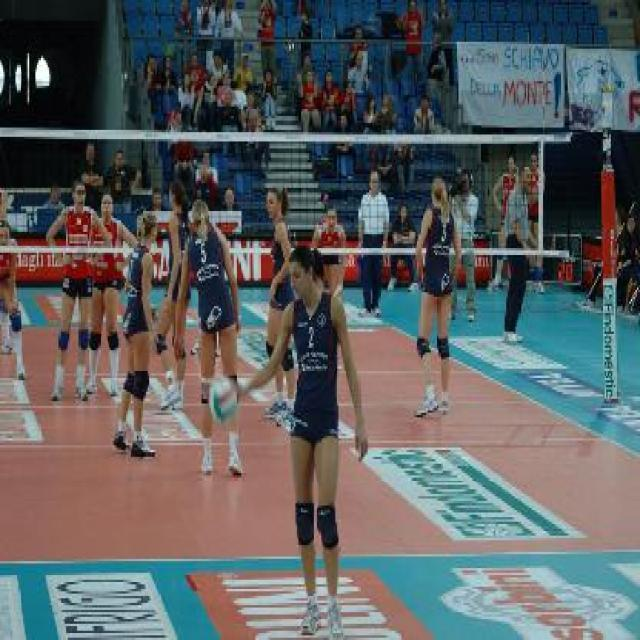volleyball: (209, 377, 239, 424)
